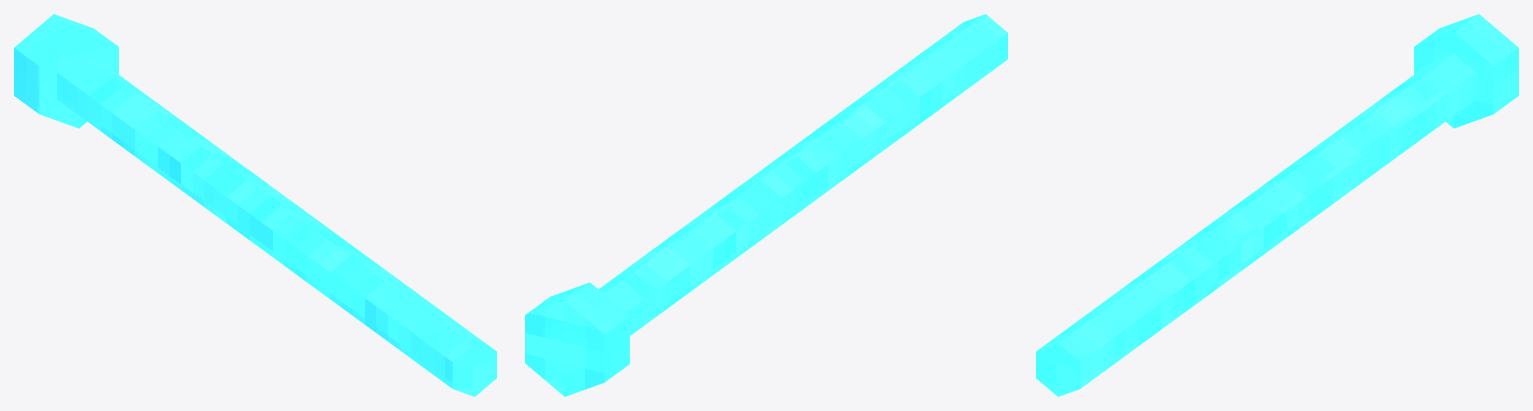
Rendered from fx_beam_w.glb.
3 renders of one model, left to right at view 1: azimuth 30°, elevation 25°; view 2: azimuth 150°, elevation 25°; view 3: azimuth 330°, elevation 25°, orthographic.
Visible parts, largest first — view 1: fx_beam_w; view 2: fx_beam_w; view 3: fx_beam_w.
Boxes of the visible parts, box(x1,y1,x2,y2) form: fx_beam_w: box(14, 14, 496, 396); fx_beam_w: box(525, 14, 1007, 396); fx_beam_w: box(1036, 14, 1518, 396).
Size of the model in its own units: 0.1091 by 0.126 by 1.
1 material, 1 textured.
